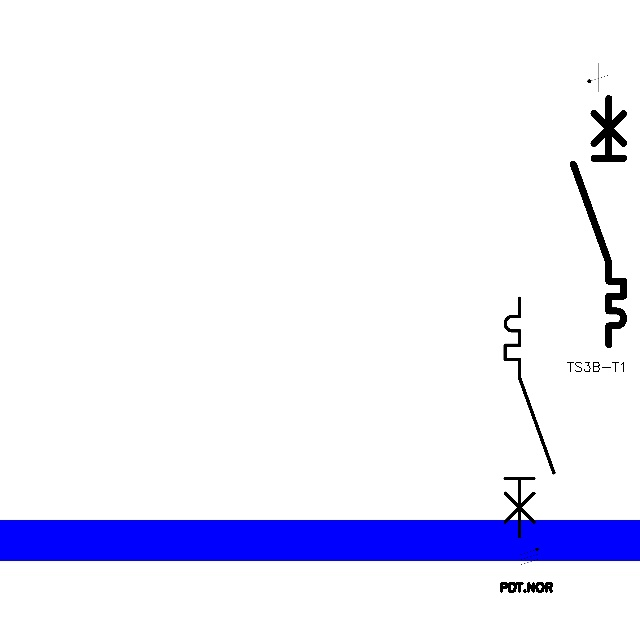interruptor_termomagnetico: (567, 92, 630, 350), (499, 292, 560, 543)
